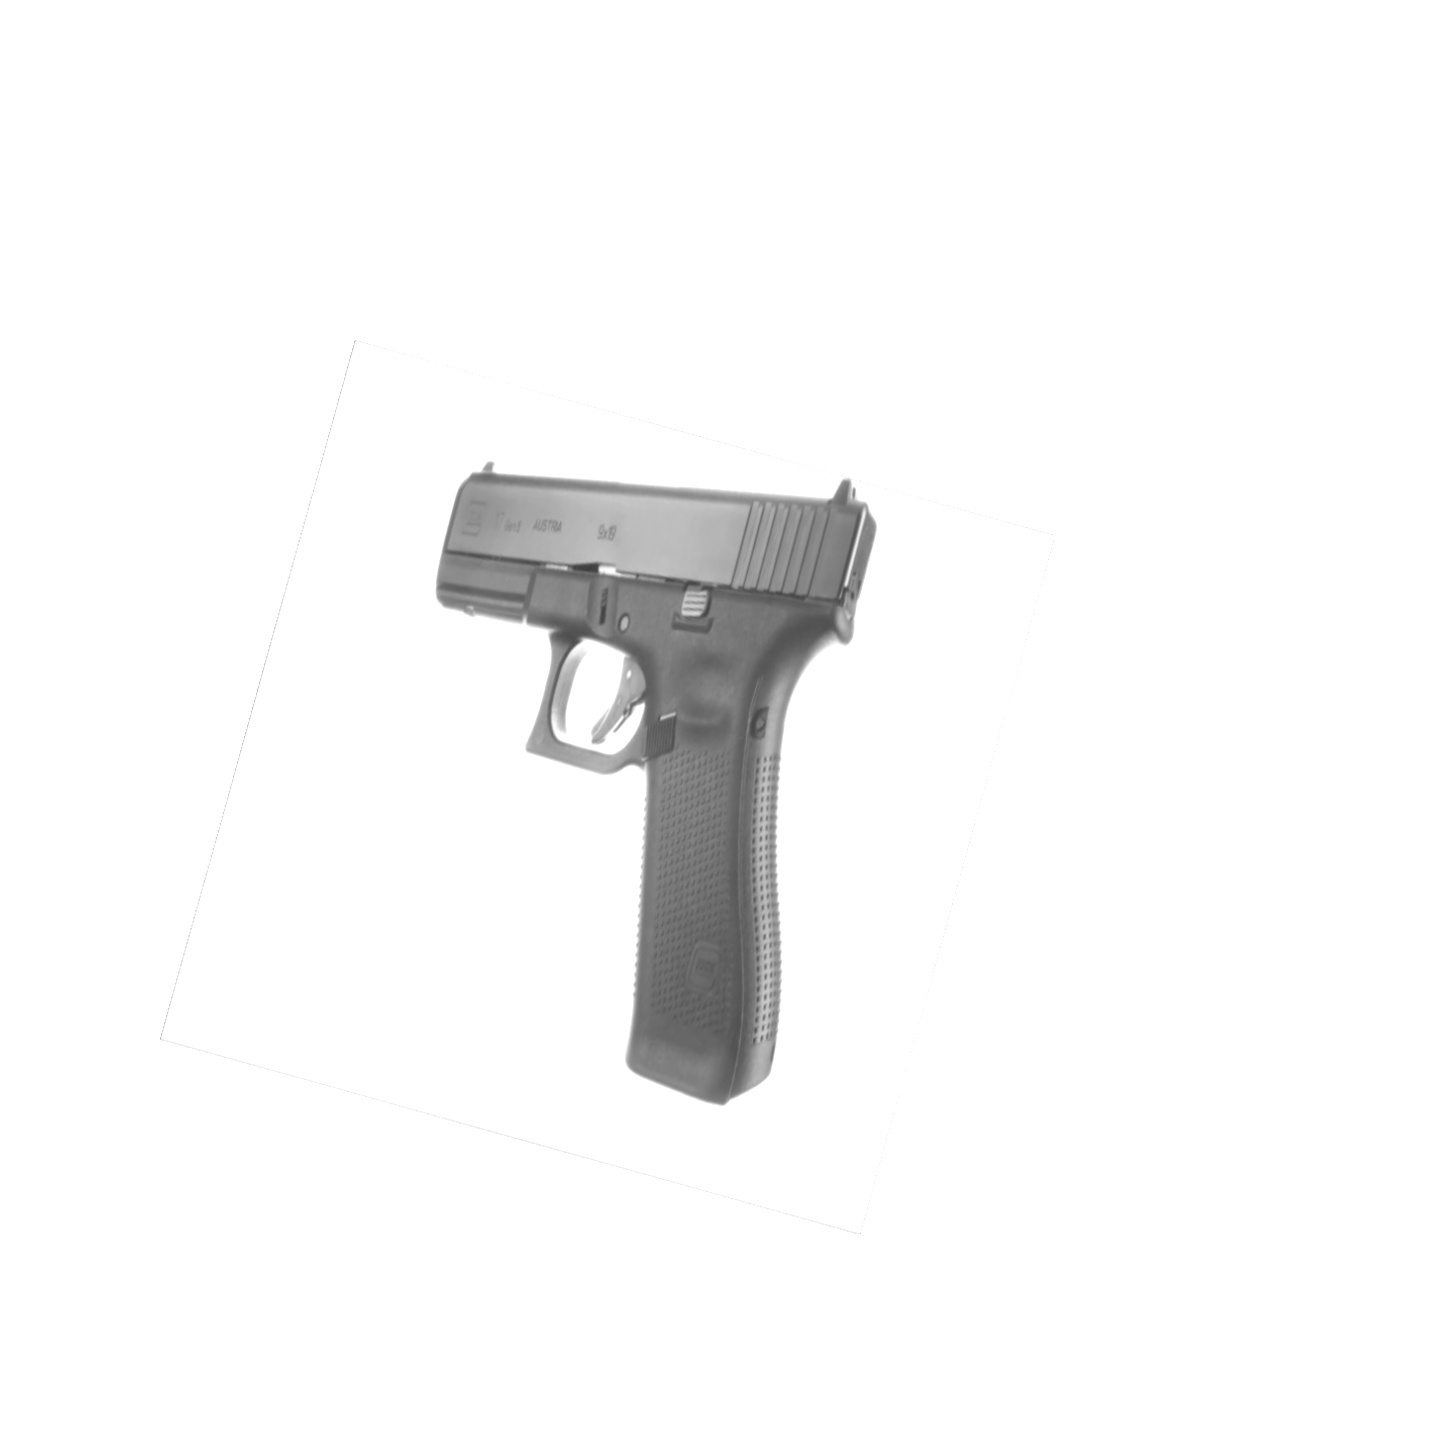gun: (428, 442, 881, 1110)
